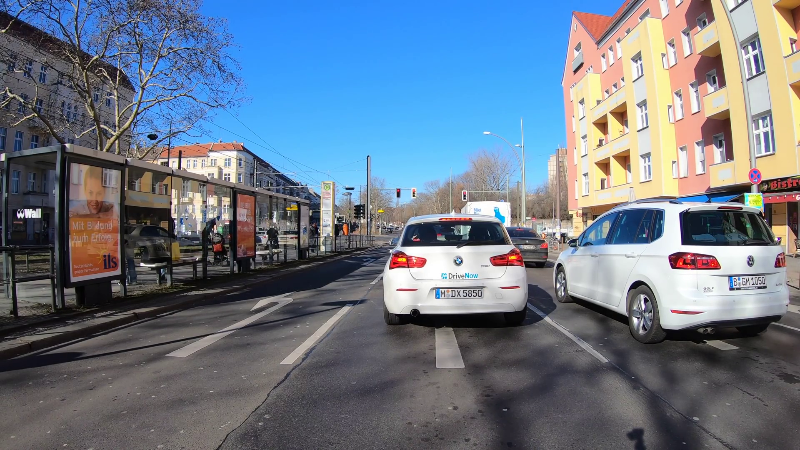Plate: (433, 286, 484, 298), (727, 275, 768, 288)
